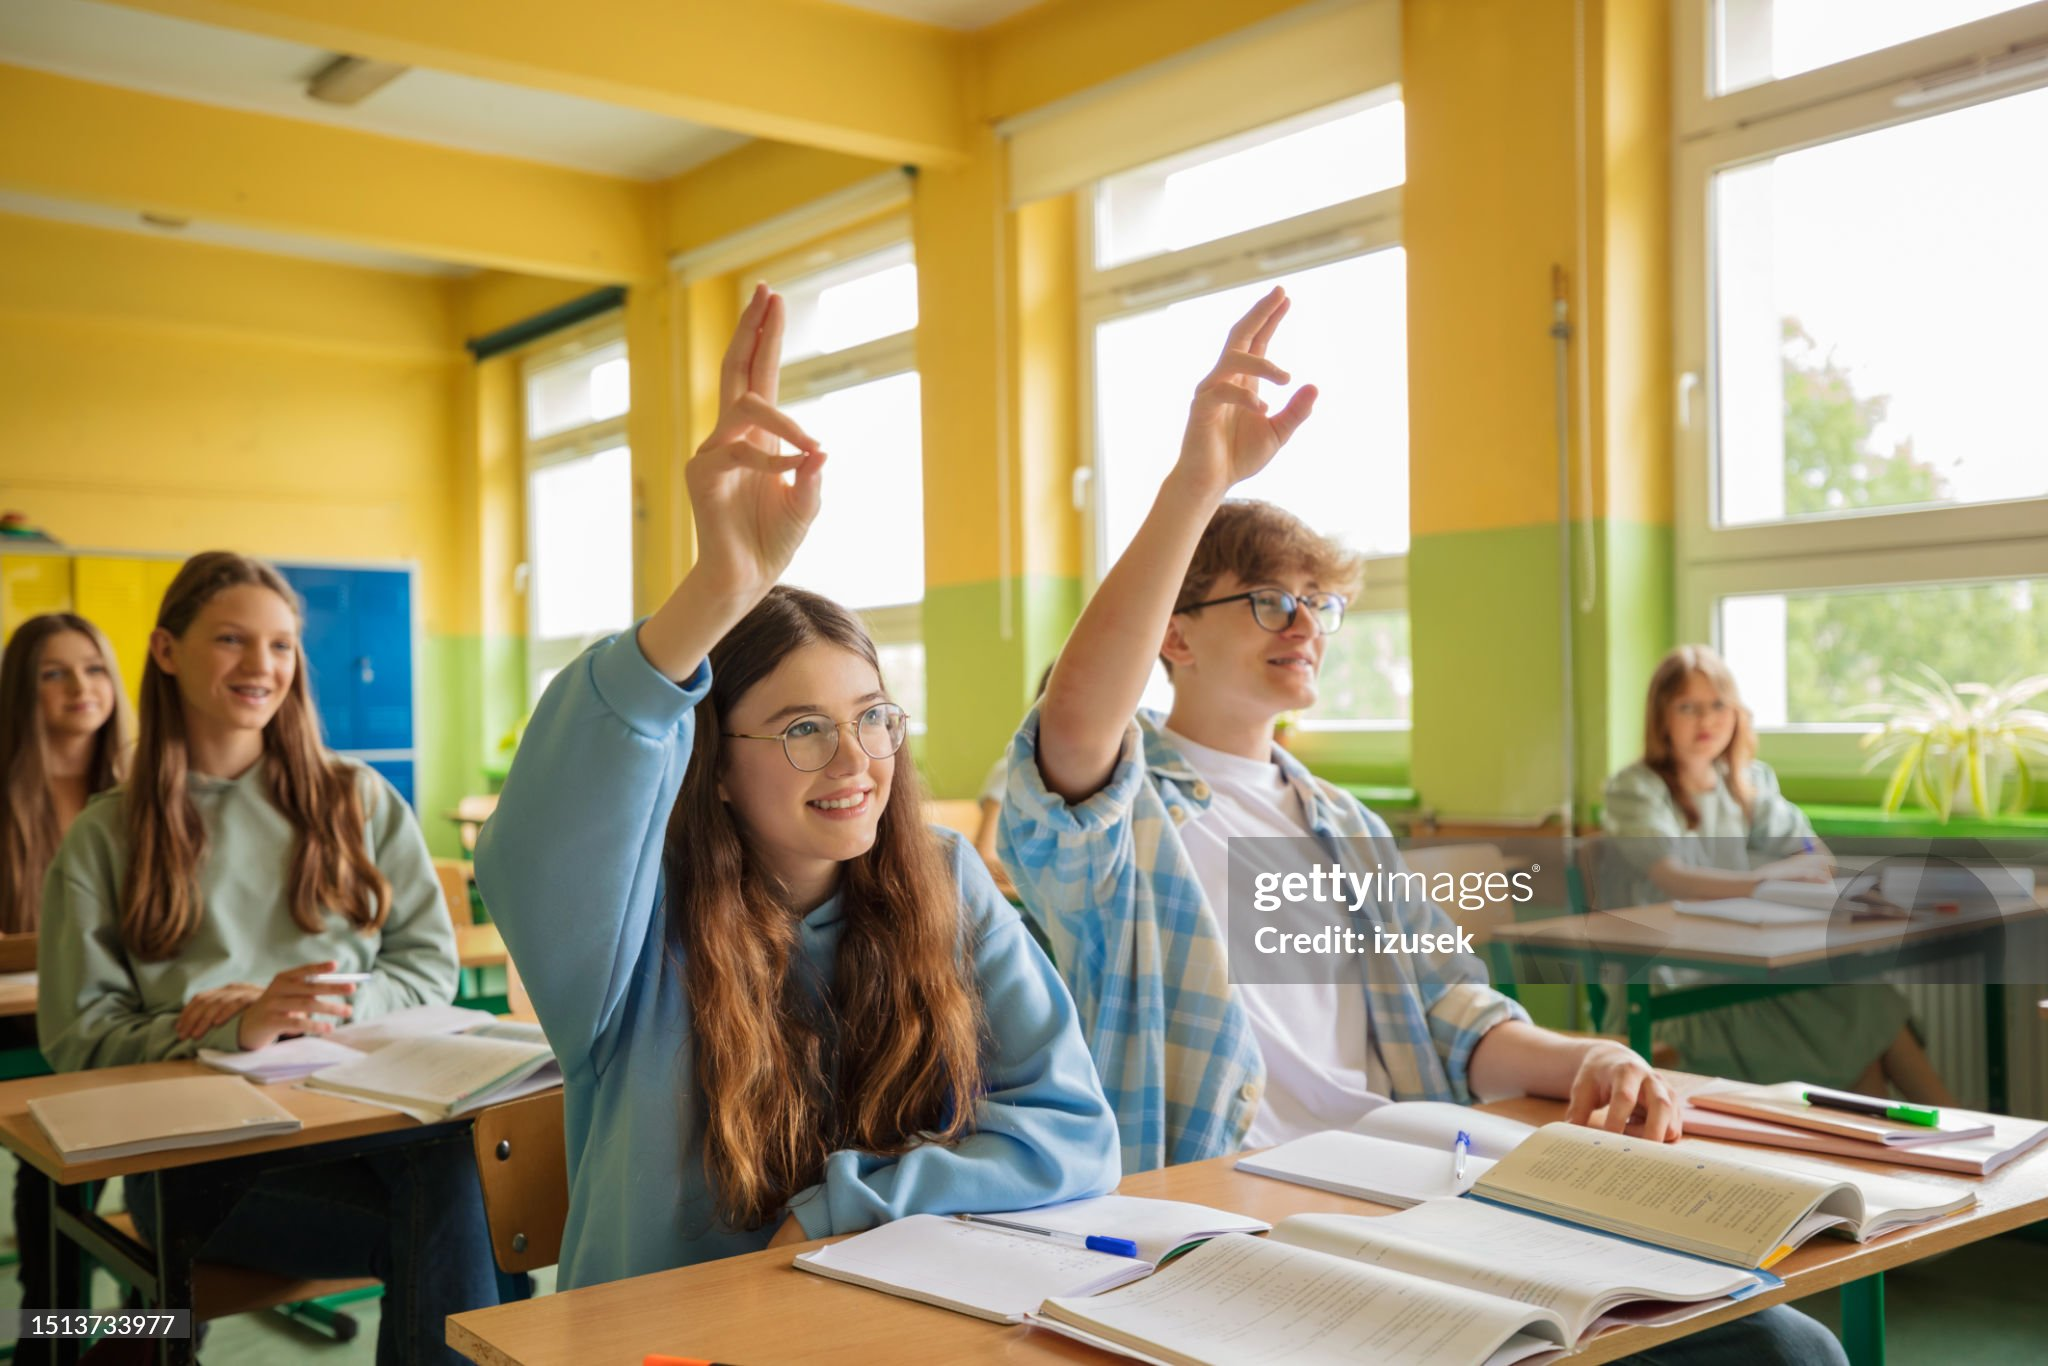entre30-50-porcento: (2, 271, 2042, 1305)
